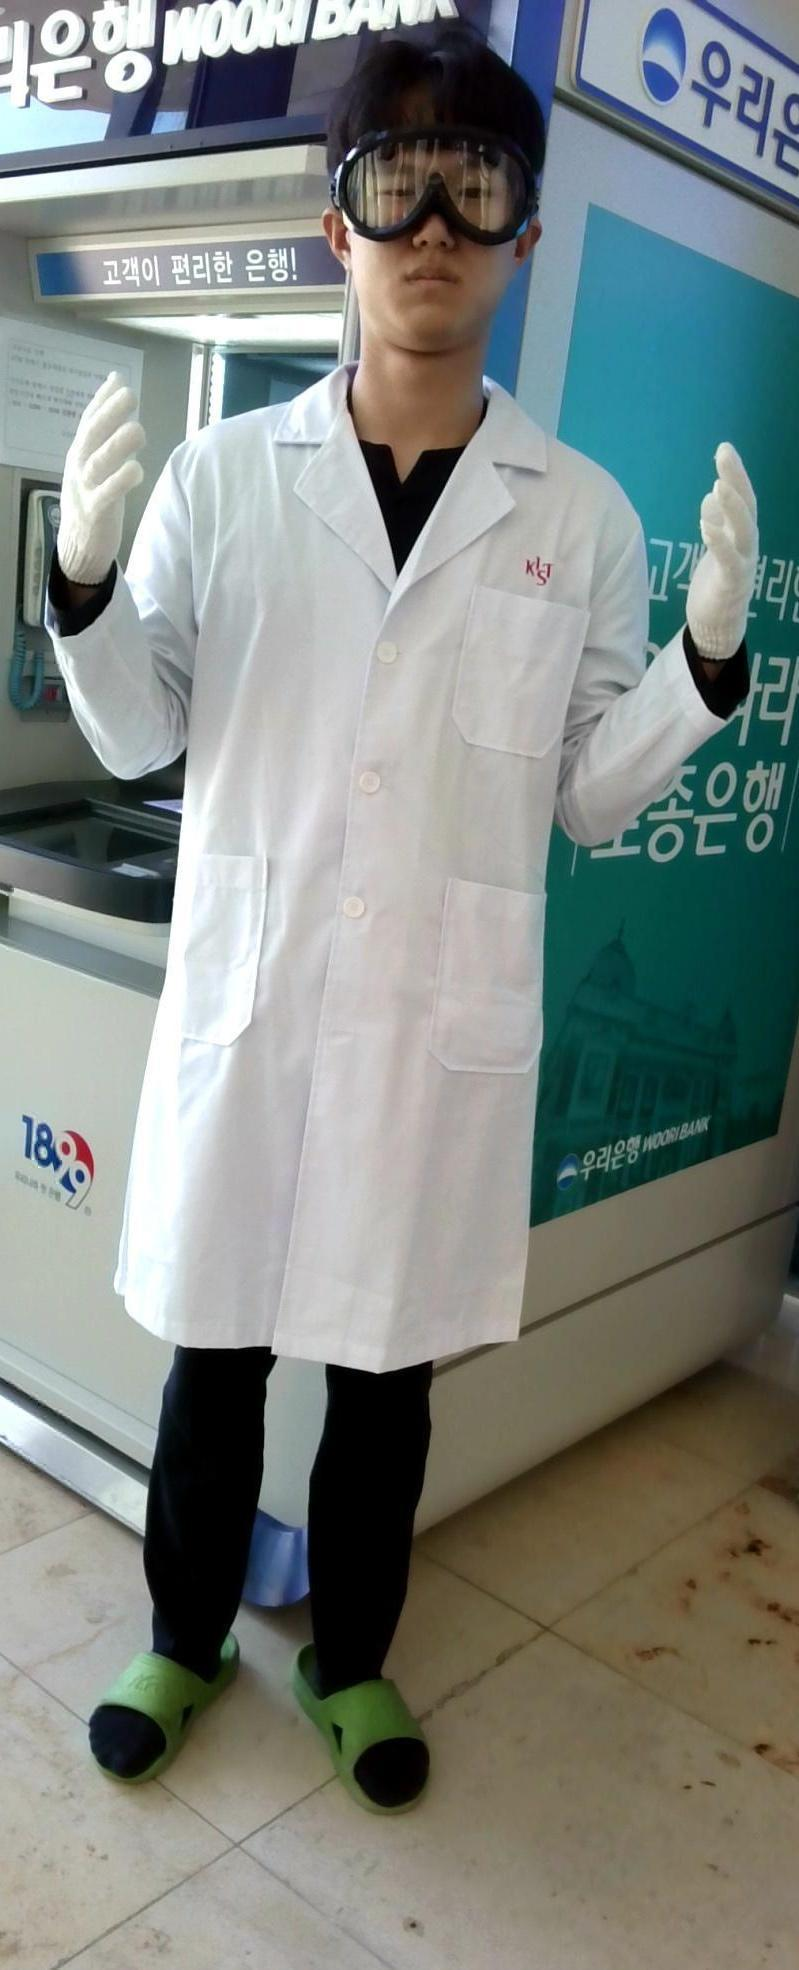lab_coat: (157, 451, 621, 1309)
